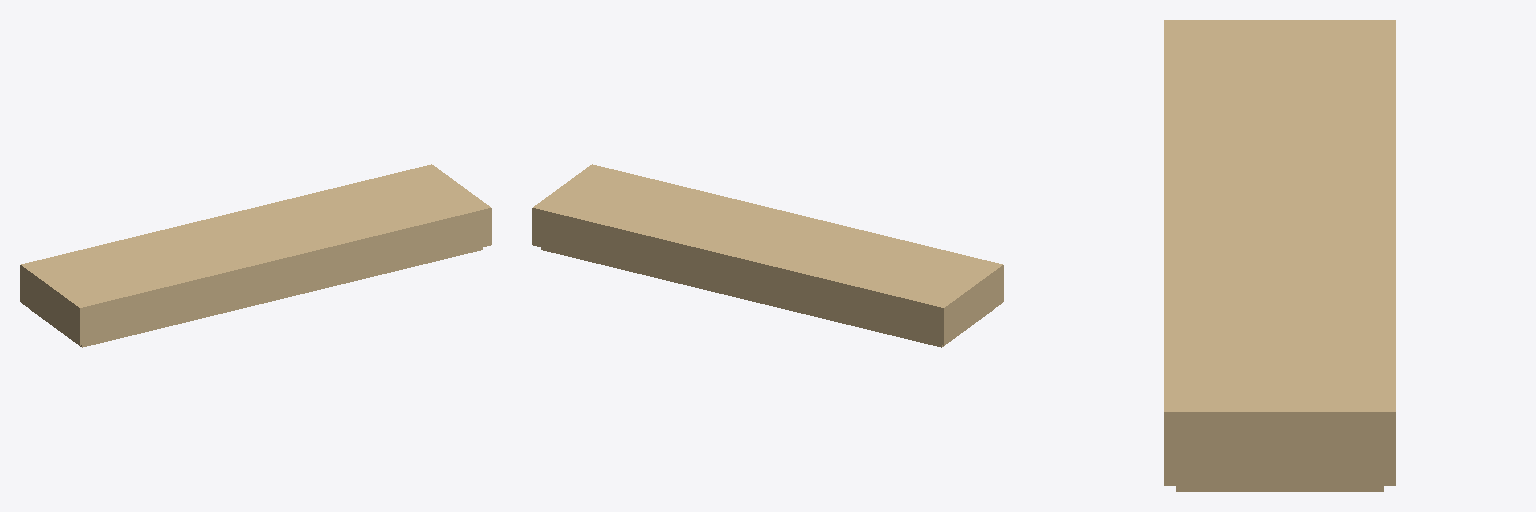
URDF robot description (2431__tan):
<?xml version="1.0"?>
<robot name="2431__tan">
  <link name="2431__tan">
    <inertial>
      <origin xyz="0.000000 0.000000 -0.001589" rpy="0 0 0"/>
      <mass value="0.000854"/>
      <inertia ixx="5.220835397e-09" ixy="1.979094239e-25" ixz="-2.582345859e-25" iyy="7.334529236e-08" iyz="-1.437261319e-26" izz="7.712696893e-08"/>
    </inertial>
    <visual>
      <geometry>
        <mesh filename="../meshes/visual/2431.obj" scale="1 1 1"/>
      </geometry>
      <material name="2431__tan_color">
        <color rgba="0.860 0.770 0.610 1.000"/>
      </material>
    </visual>
    <collision>
      <geometry>
        <mesh filename="../meshes/collision/2431_hull.obj" scale="1 1 1"/>
      </geometry>
    </collision>
  </link>
</robot>

--- Facts derived from the render (not from the file) ---
3 views of the same robot in one strip: view 1: azimuth 30°, elevation 25°; view 2: azimuth 150°, elevation 25°; view 3: azimuth 270°, elevation 25° (orthographic).
Model 2431__tan with 1 links and 0 joints (none), rooted at 2431__tan, posed every joint at zero.
Links seen in each view (by area): view 1: 2431__tan; view 2: 2431__tan; view 3: 2431__tan.
Boxes of the visible links, x1,y1,x2,y2 form: 2431__tan: [20, 164, 491, 347]; 2431__tan: [532, 164, 1003, 347]; 2431__tan: [1164, 20, 1395, 491].
Bounding box of the posed robot: 0.032 × 0.008 × 0.0032 m (x, y, z).
1 mesh visuals loaded from 1 distinct referenced files (1 OBJ).
